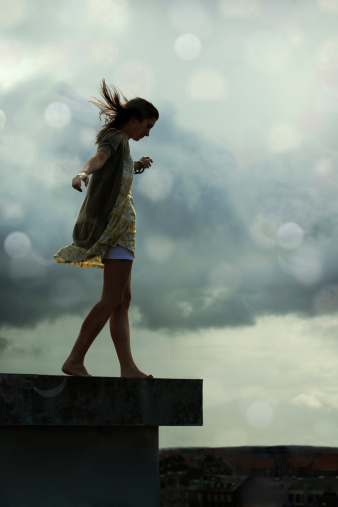em pe: (40, 83, 156, 402)
